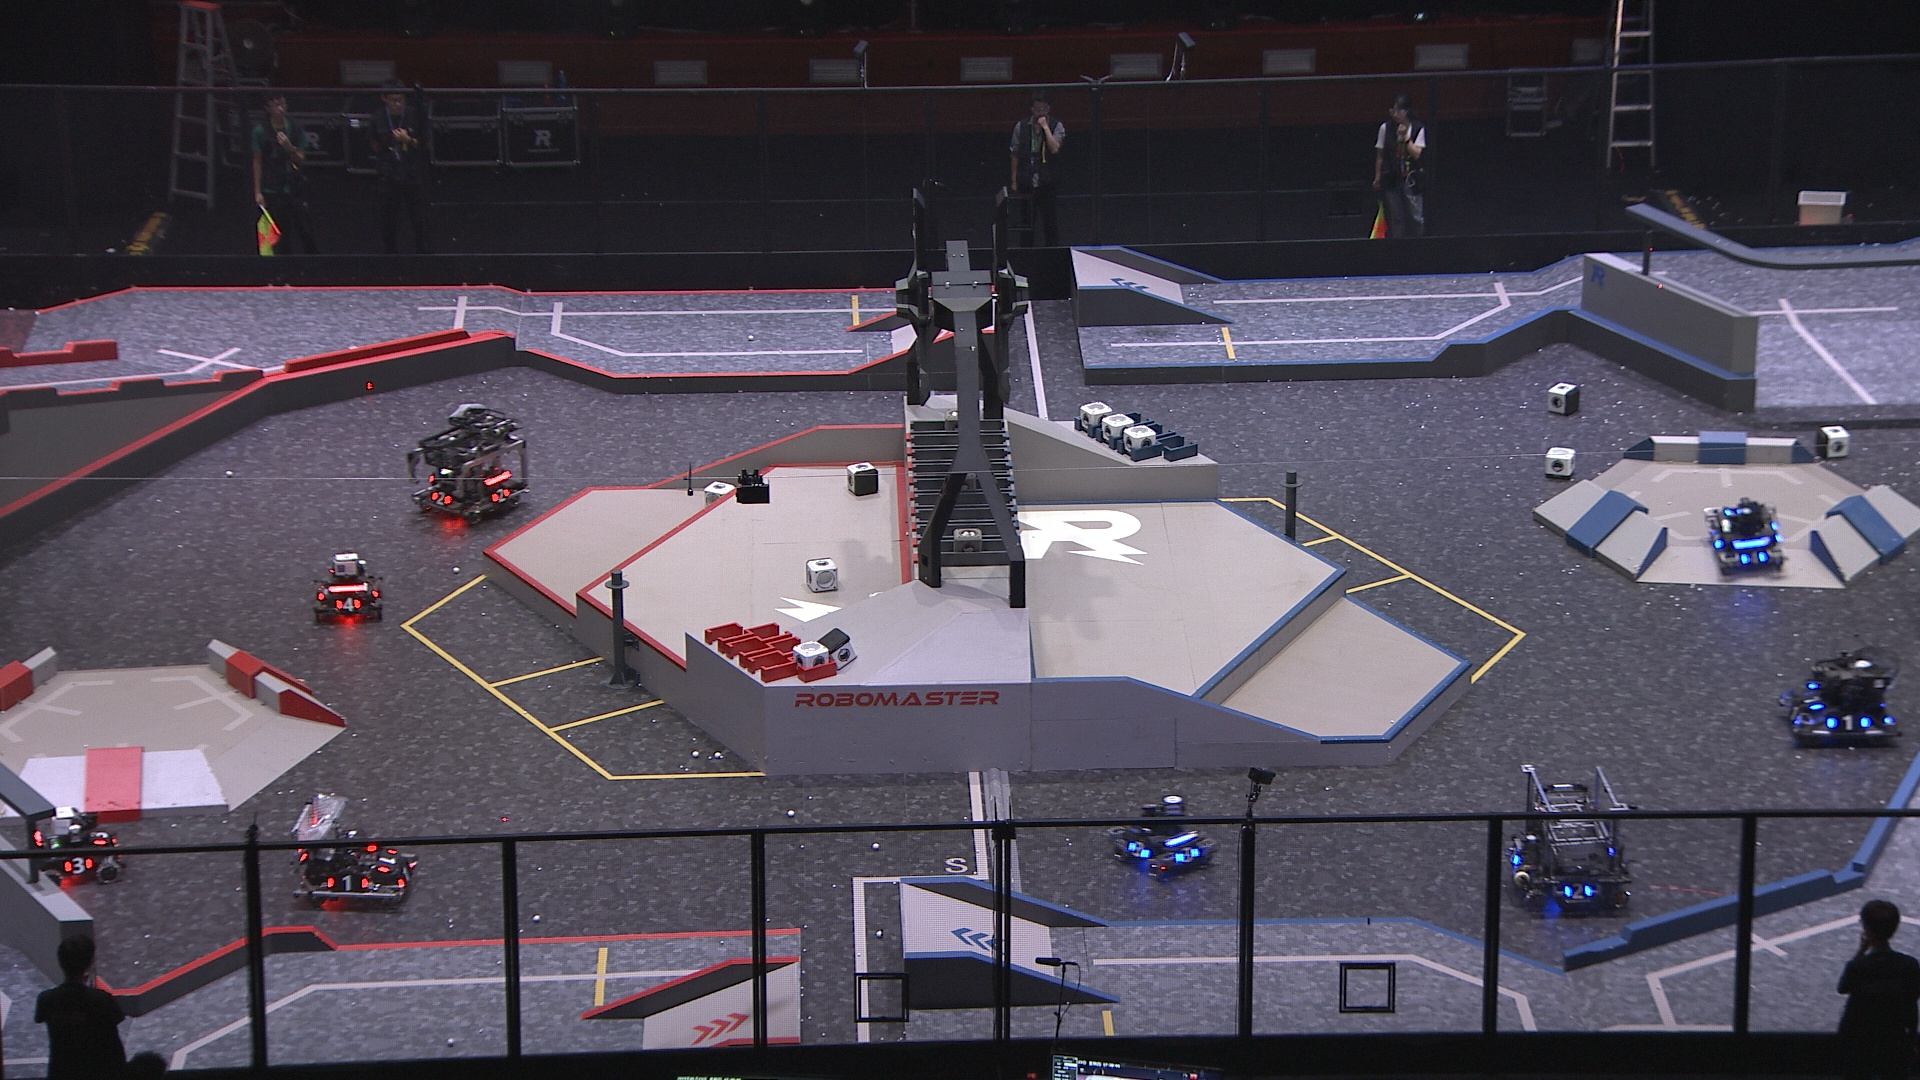armor: (324, 872, 371, 893), (1826, 713, 1871, 732), (1564, 880, 1596, 901), (61, 856, 94, 876), (375, 847, 396, 876), (394, 861, 415, 889), (1174, 844, 1200, 865), (90, 828, 113, 849), (1737, 549, 1768, 564), (334, 597, 363, 615), (489, 485, 513, 504), (1803, 694, 1826, 712), (1787, 702, 1804, 727), (1505, 847, 1523, 869), (1127, 841, 1150, 860), (429, 491, 451, 506)
car: (1501, 764, 1636, 913), (405, 406, 531, 526), (291, 790, 419, 909), (1778, 654, 1902, 752), (1109, 794, 1220, 882), (24, 804, 124, 887), (1705, 495, 1787, 572), (310, 553, 386, 622)
